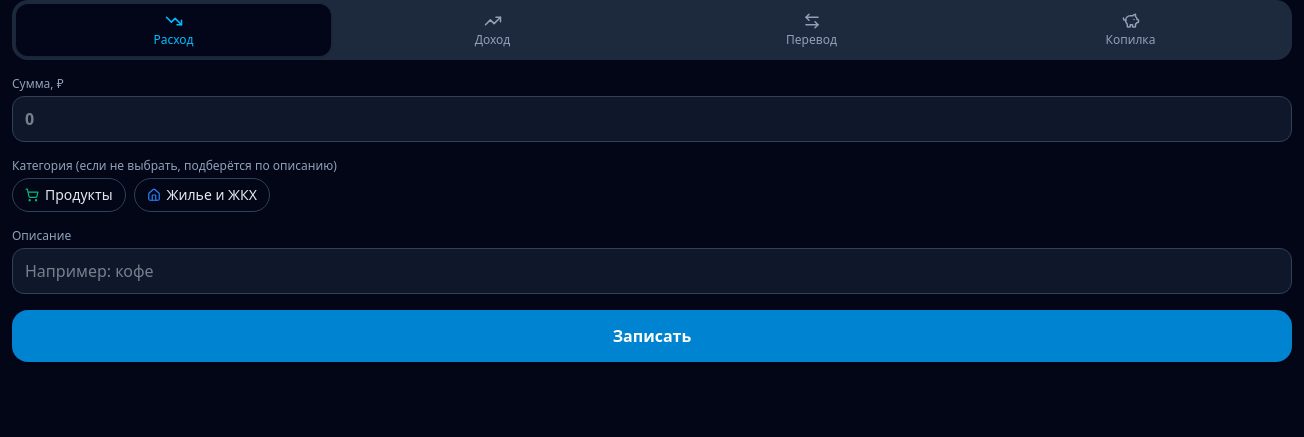
Test case: EntryForm (Mini App input) › explains how to create a goal when there are none
Expected: the element named "Тип записи" is shown, [12,0,1292,60]
Click the tab "Копилка".
click(1130, 30)  # box [973,4,1288,56]
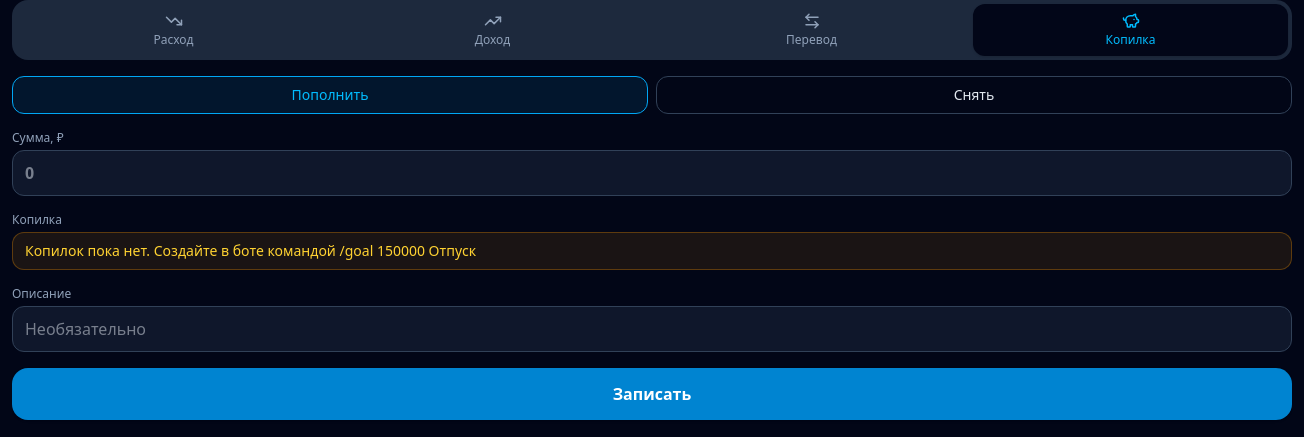
Now the text "/goal" is shown, box [25,241,476,260]
